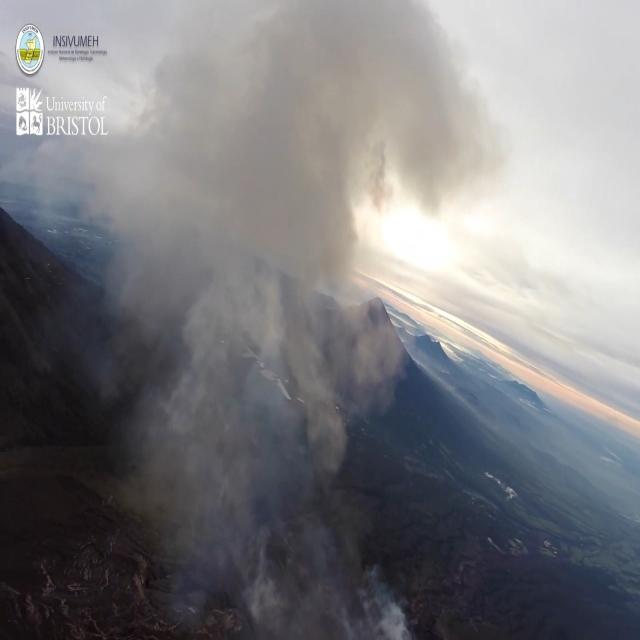Plume: (114, 4, 516, 407)
